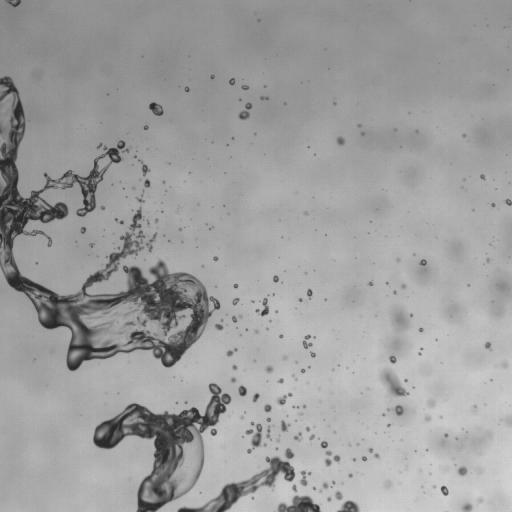droplet: (245, 421, 265, 453), (389, 305, 412, 331), (324, 450, 340, 466), (255, 298, 269, 316), (337, 500, 359, 511), (489, 301, 504, 317), (149, 102, 163, 115), (299, 470, 310, 486), (140, 161, 150, 176), (302, 334, 312, 348), (393, 405, 403, 415), (457, 466, 467, 475), (238, 385, 246, 396), (462, 503, 473, 511), (503, 416, 511, 426), (281, 421, 289, 431), (336, 136, 344, 145), (440, 486, 448, 495), (334, 491, 342, 500), (226, 349, 236, 356), (265, 365, 273, 373), (427, 399, 435, 407), (484, 341, 491, 350), (252, 393, 259, 402), (389, 355, 396, 363), (264, 404, 271, 412), (294, 433, 301, 441), (136, 196, 143, 203), (232, 298, 239, 305), (144, 179, 150, 187), (307, 289, 312, 298), (215, 324, 222, 330), (321, 441, 327, 448), (385, 480, 391, 487), (505, 199, 511, 205), (420, 259, 426, 265), (229, 78, 234, 85), (273, 275, 278, 282), (80, 227, 85, 233), (310, 351, 315, 357), (502, 362, 507, 368), (309, 434, 314, 440), (443, 466, 448, 472), (477, 497, 482, 503), (241, 85, 248, 89), (480, 174, 485, 179), (213, 256, 218, 261), (230, 377, 235, 382), (278, 378, 283, 383), (472, 405, 477, 410), (425, 416, 430, 421), (374, 453, 379, 458), (123, 312, 129, 316), (232, 316, 236, 322), (401, 284, 406, 288), (232, 365, 237, 369), (361, 456, 366, 460), (261, 96, 267, 99), (185, 87, 189, 91), (144, 125, 148, 129), (368, 281, 372, 285), (234, 284, 238, 288), (279, 334, 283, 338), (301, 369, 305, 373), (368, 448, 372, 452), (348, 473, 352, 477), (327, 497, 331, 501), (306, 426, 309, 431), (210, 75, 214, 78), (491, 203, 495, 206), (89, 243, 93, 246), (419, 328, 423, 331), (266, 418, 270, 421), (460, 445, 463, 449), (312, 487, 316, 490), (101, 206, 104, 209), (155, 219, 158, 222), (486, 258, 489, 261), (255, 329, 258, 332), (294, 405, 297, 408), (299, 412, 302, 415), (444, 433, 447, 436), (276, 438, 279, 441), (358, 124, 360, 127), (463, 134, 465, 137), (304, 212, 307, 214), (393, 291, 396, 293), (299, 298, 301, 301), (284, 356, 286, 359), (404, 379, 407, 381), (303, 405, 306, 407), (387, 424, 390, 426), (462, 437, 464, 440), (433, 485, 435, 488), (361, 132, 363, 134), (147, 222, 149, 224), (275, 310, 277, 312), (221, 319, 223, 321), (240, 416, 242, 418), (353, 459, 355, 461), (332, 481, 334, 483)
ligament: (0, 78, 220, 371), (93, 384, 231, 511), (177, 448, 295, 511), (275, 485, 321, 511), (379, 368, 408, 399), (238, 102, 251, 119), (145, 233, 156, 251), (277, 393, 292, 405), (319, 482, 329, 492), (6, 0, 20, 6), (115, 218, 123, 224), (266, 427, 270, 439), (292, 374, 297, 380), (112, 312, 119, 315)
